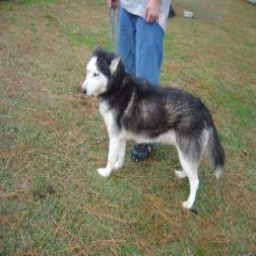dog: (80, 45, 228, 212)
